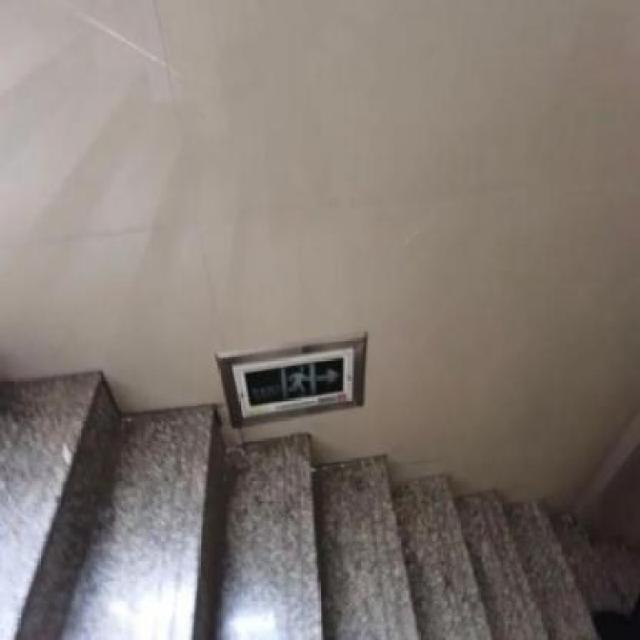exit_sign: (214, 351, 373, 418)
